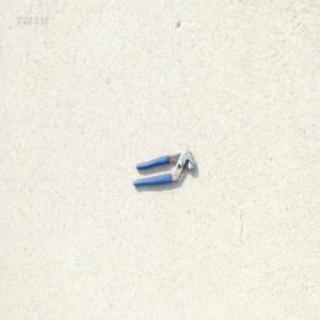Pliertrack_idkeyframe: (130, 145, 194, 185)
